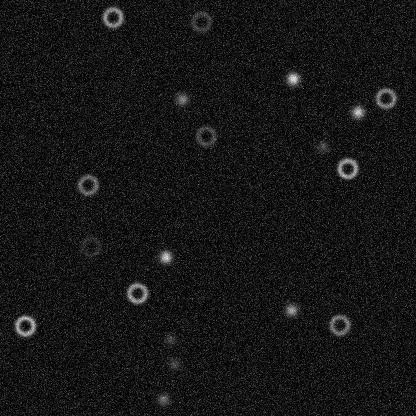Ring: (100, 5, 124, 29), (327, 312, 351, 336), (13, 313, 37, 337), (189, 9, 213, 33), (125, 281, 149, 305), (193, 123, 217, 147), (373, 86, 397, 110), (78, 234, 102, 258), (75, 172, 99, 196), (335, 156, 359, 180)
Spot: (161, 331, 177, 347), (155, 391, 171, 407), (166, 355, 182, 371), (349, 103, 365, 119), (284, 70, 300, 86), (174, 91, 190, 107), (157, 248, 173, 264), (314, 138, 330, 154), (283, 301, 299, 317)
